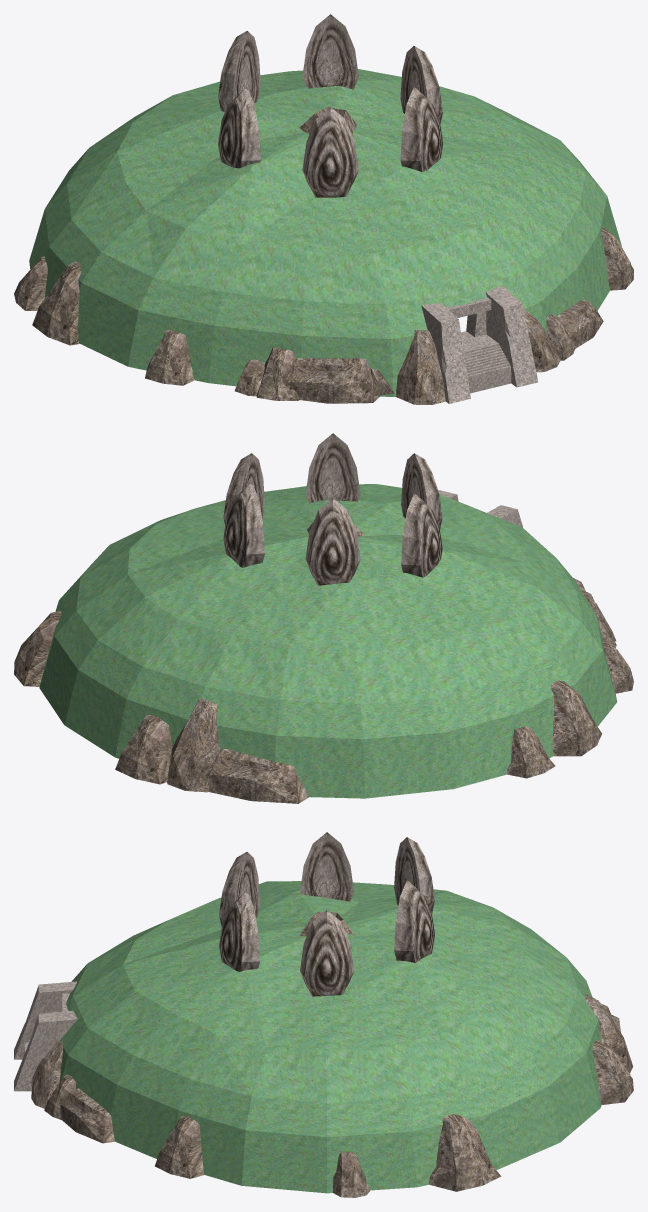
The model's file is thm_dath_mtn_clan_stronghold_r0_mesh_r0_l1.fbx.
3 renders of one model, top to bottom at view 1: azimuth 30°, elevation 25°; view 2: azimuth 150°, elevation 25°; view 3: azimuth 270°, elevation 25°, orthographic. The views are drawn at different scales.
Visible parts, largest first — view 1: mesh_node; view 2: mesh_node; view 3: mesh_node.
Boxes of the visible parts, left/top/right/bottom form: mesh_node: left=14, top=14, right=633, bottom=404; mesh_node: left=14, top=433, right=633, bottom=803; mesh_node: left=14, top=832, right=633, bottom=1197.
Size of the model in its own units: 73.97 by 28.76 by 75.29.
